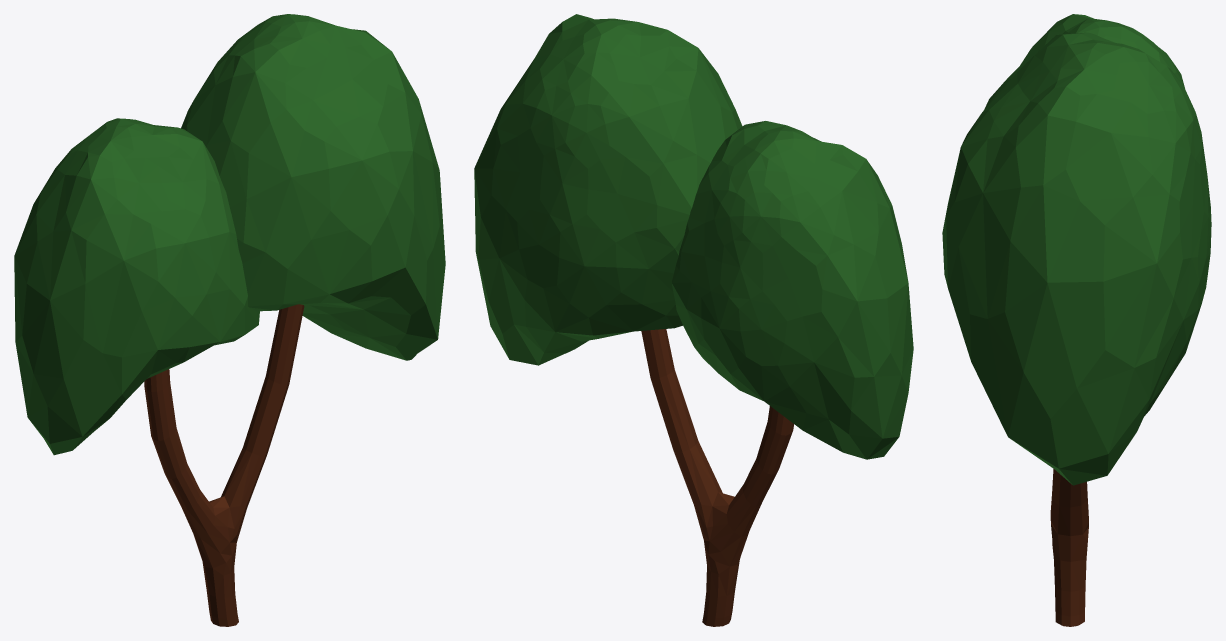
Rendered from Tree4.obj.
The picture shows the model from 3 angles, left to right: view 1: azimuth 30°, elevation 25°; view 2: azimuth 150°, elevation 25°; view 3: azimuth 270°, elevation 25°; orthographic projection. The views are drawn at different scales.
Parts seen in each view (by area): view 1: Tree4.015_Green, Tree4.015_Brown; view 2: Tree4.015_Green, Tree4.015_Brown; view 3: Tree4.015_Green, Tree4.015_Brown.
Part boxes in pixels (x1,y1,x2,y2): Tree4.015_Green: (14, 14, 445, 455); Tree4.015_Brown: (144, 304, 304, 626); Tree4.015_Green: (474, 14, 913, 459); Tree4.015_Brown: (641, 329, 793, 626); Tree4.015_Green: (942, 14, 1211, 485); Tree4.015_Brown: (1050, 469, 1088, 626).
Size of the model in its own units: 3.8 by 5.24 by 2.05.
